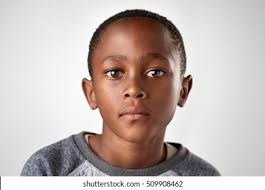person: (81, 8, 194, 147)
